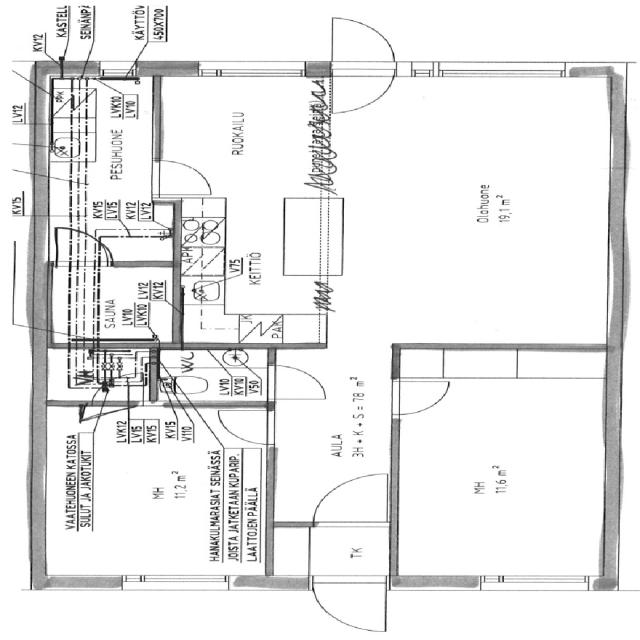door: (319, 12, 399, 114), (304, 571, 397, 637), (306, 468, 392, 530), (144, 152, 222, 203), (208, 403, 282, 448), (387, 373, 458, 417), (261, 362, 332, 405), (54, 224, 118, 268)
window: (434, 59, 568, 87), (113, 570, 237, 596), (473, 570, 595, 596), (188, 60, 308, 82)
zone: (331, 76, 625, 356), (390, 355, 615, 594), (38, 398, 265, 586), (195, 91, 348, 331), (58, 262, 178, 344), (275, 181, 348, 310), (153, 346, 272, 406)
